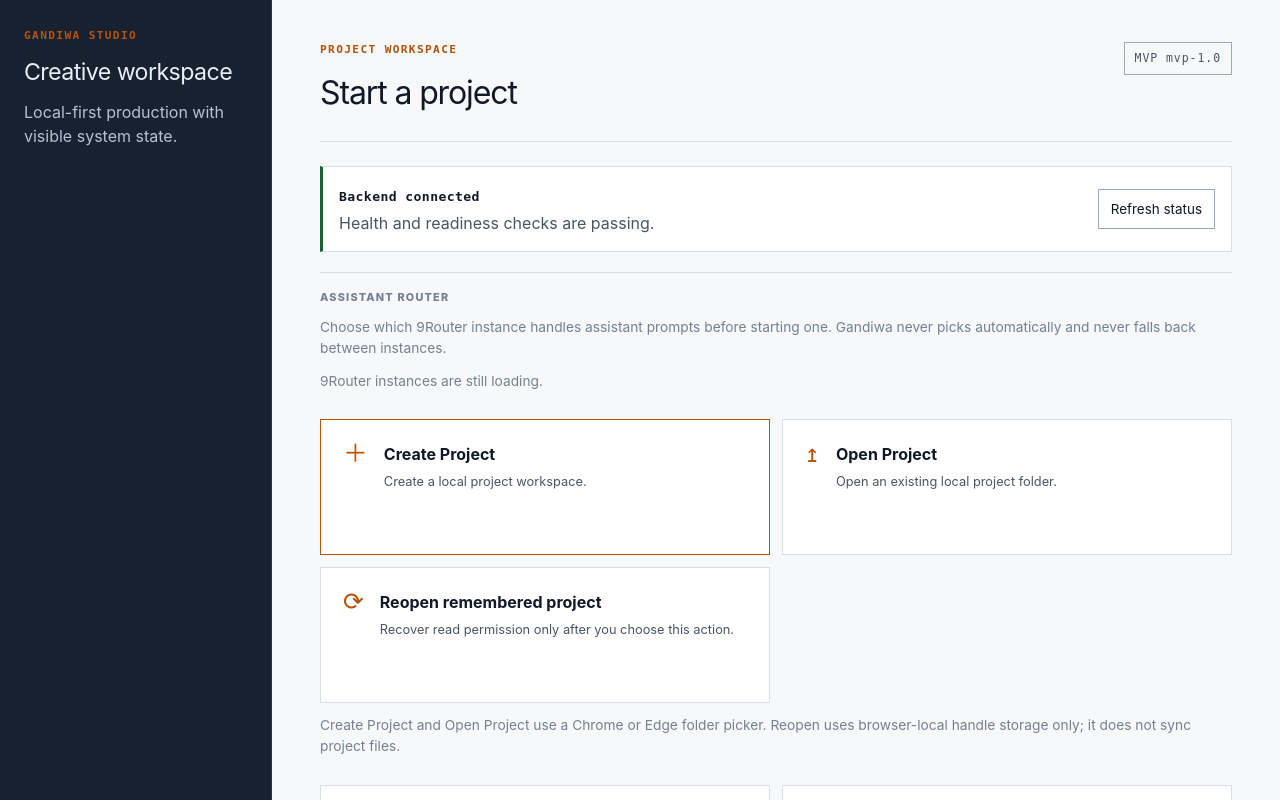
Test: App shell › reopens a preloaded local handle with permission recovery from the button action
Click the button "Reopen remembered project".
click(545, 635)  # box [320,567,770,703]
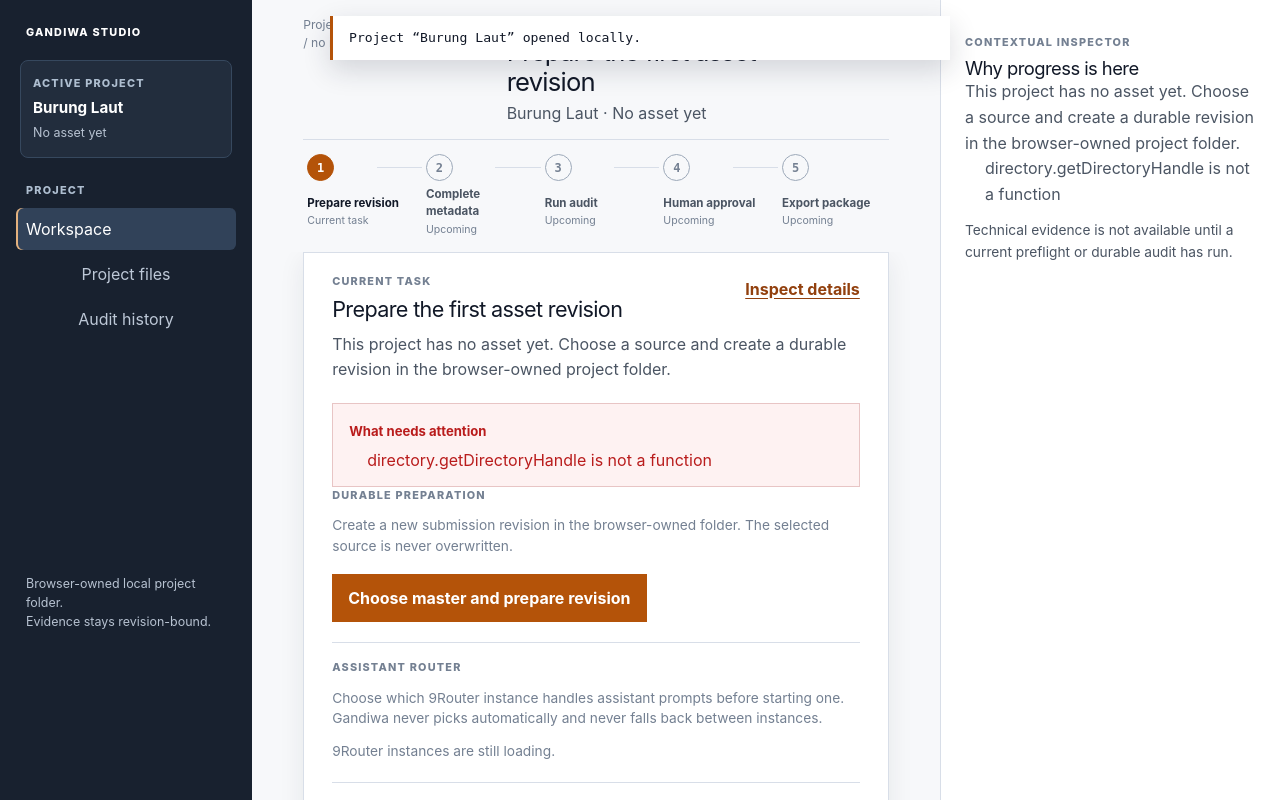
Result: the message "Project “Burung Laut” opened locally." is shown at [330,16,950,60]
